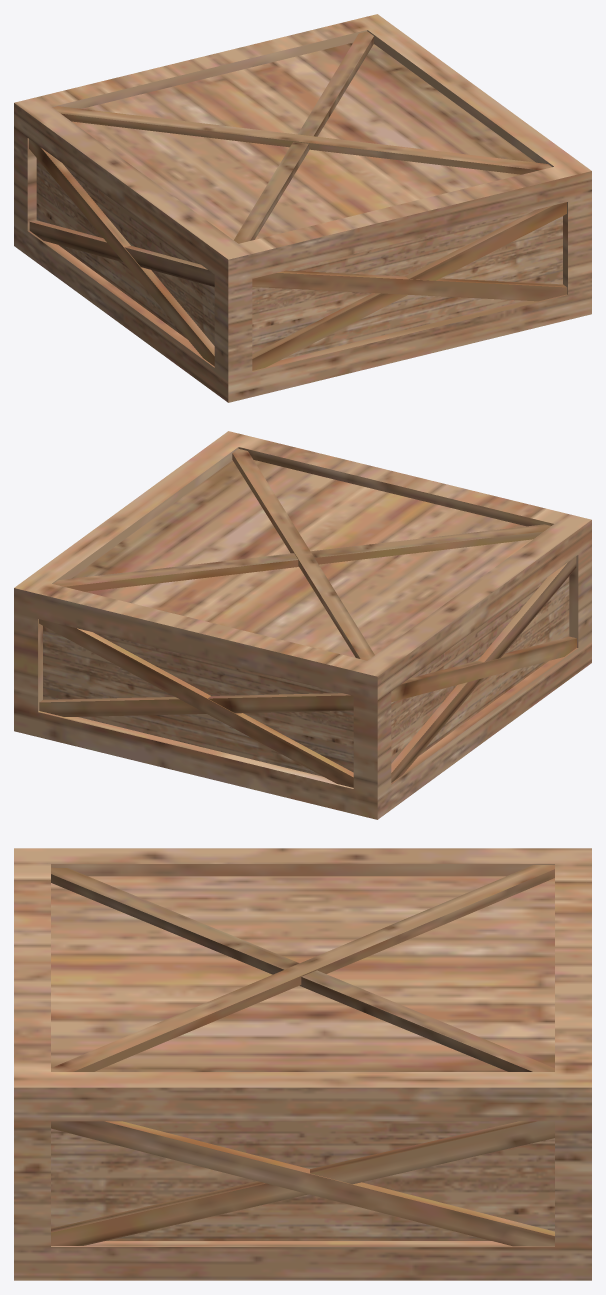
File: WoodBox_Platform.fbx
3 renders of one model, top to bottom at view 1: azimuth 30°, elevation 25°; view 2: azimuth 150°, elevation 25°; view 3: azimuth 270°, elevation 25°, orthographic. The views are drawn at different scales.
Visible parts, largest first — view 1: WoodBox_Platform; view 2: WoodBox_Platform; view 3: WoodBox_Platform.
Part boxes in pixels (<box>): WoodBox_Platform: <box>14,14,591,402</box>; WoodBox_Platform: <box>14,431,591,819</box>; WoodBox_Platform: <box>14,848,591,1280</box>.
Bounding box in the file's own units: 1.24 × 0.4684 × 1.27.
